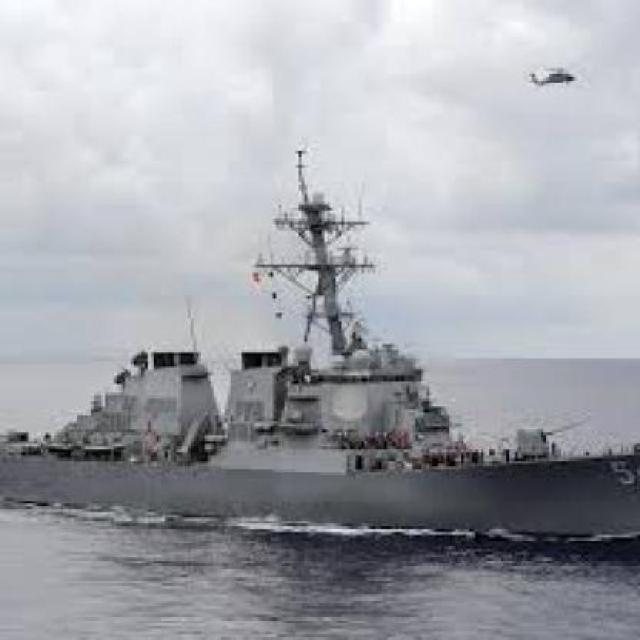warship2: (1, 157, 638, 539)
